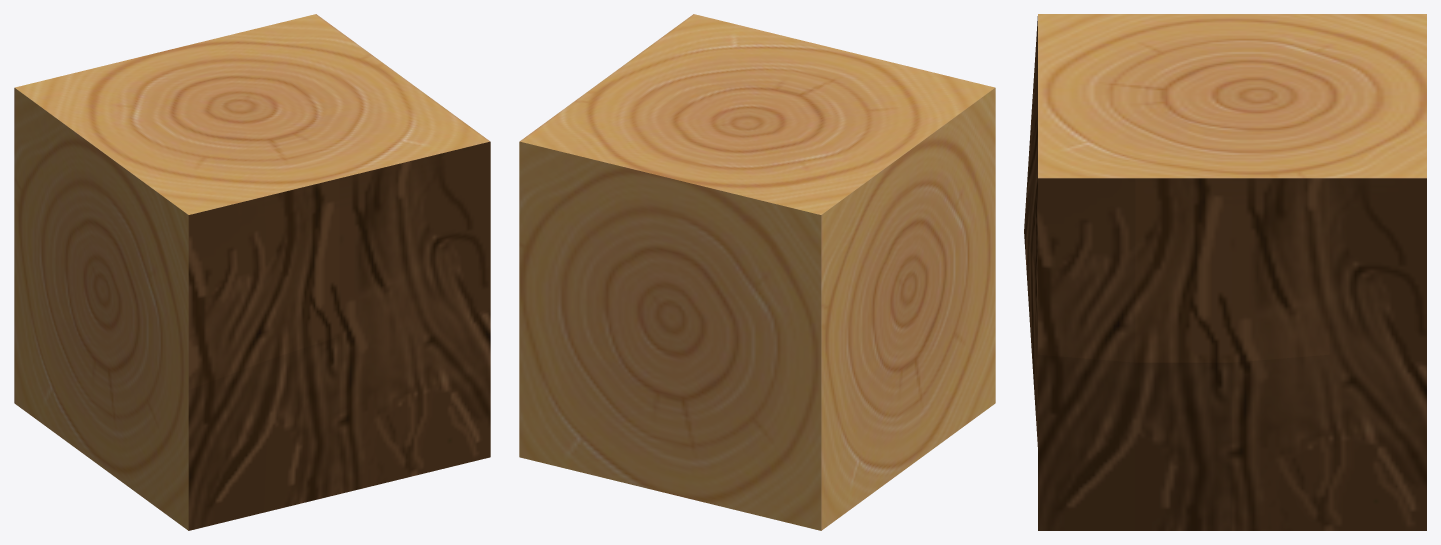
File: TreeCorner.fbx
3 renders of one model, left to right at view 1: azimuth 30°, elevation 25°; view 2: azimuth 150°, elevation 25°; view 3: azimuth 270°, elevation 25°, orthographic. The views are drawn at different scales.
Visible parts, largest first — view 1: TreeBack.001; view 2: TreeBack.001; view 3: TreeBack.001.
Part boxes in pixels (left/top/right/bottom): TreeBack.001: left=14, top=14, right=490, bottom=530; TreeBack.001: left=519, top=14, right=995, bottom=530; TreeBack.001: left=1024, top=14, right=1426, bottom=530.
Bounding box in the file's own units: 210 × 200 × 207.
